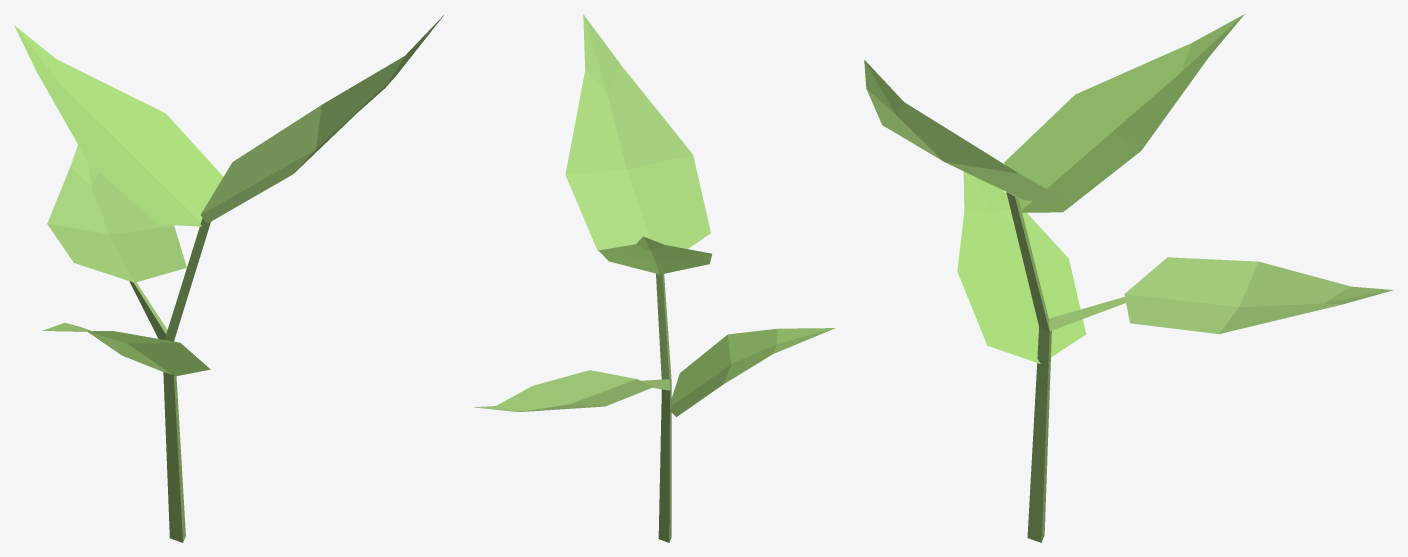
Rendered from Plant_f_TwoS_05.fbx.
3 renders of one model, left to right at view 1: azimuth 30°, elevation 25°; view 2: azimuth 150°, elevation 25°; view 3: azimuth 270°, elevation 25°, orthographic. The views are drawn at different scales.
Parts seen in each view (by area): view 1: Plant_f_TwoS_05; view 2: Plant_f_TwoS_05; view 3: Plant_f_TwoS_05.
Boxes of the visible parts, box(x1,y1,x2,y2) form: Plant_f_TwoS_05: box(14, 15, 443, 542); Plant_f_TwoS_05: box(474, 14, 835, 542); Plant_f_TwoS_05: box(864, 14, 1393, 542).
Size of the model in its own units: 0.4556 by 0.6603 by 0.5514.
